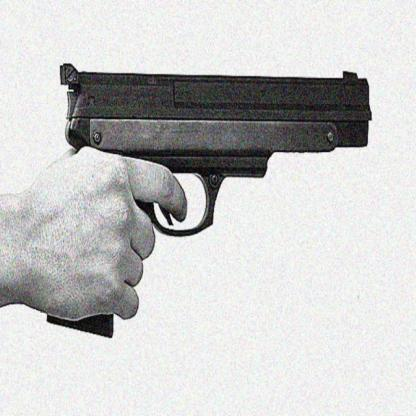weapon: (44, 62, 373, 341)
